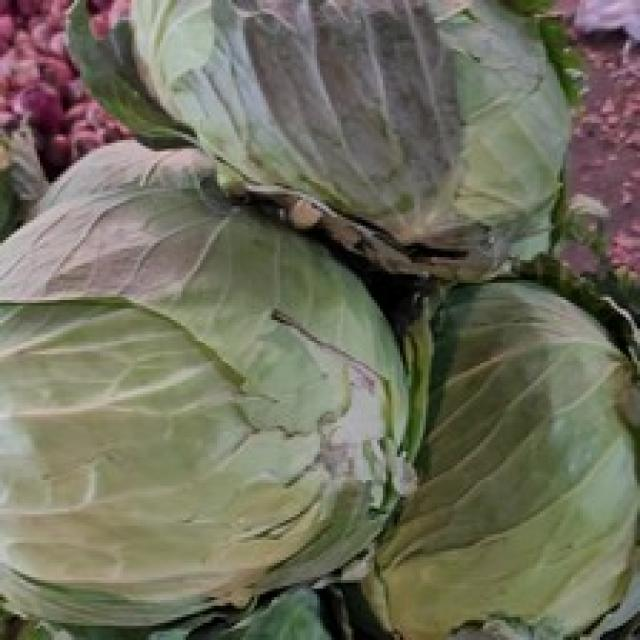Cabbage: (0, 134, 420, 632), (63, 0, 586, 283)
